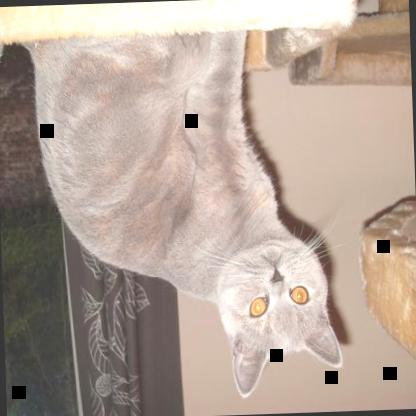cat: (12, 29, 344, 406)
